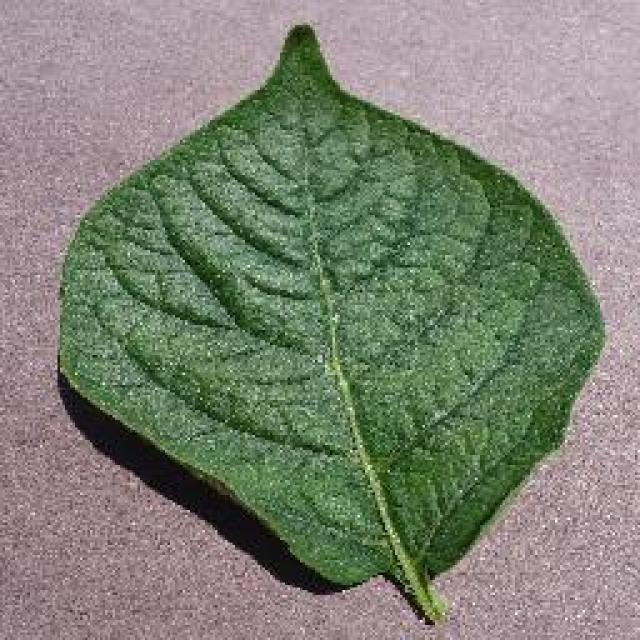Potato: (55, 20, 607, 622)
